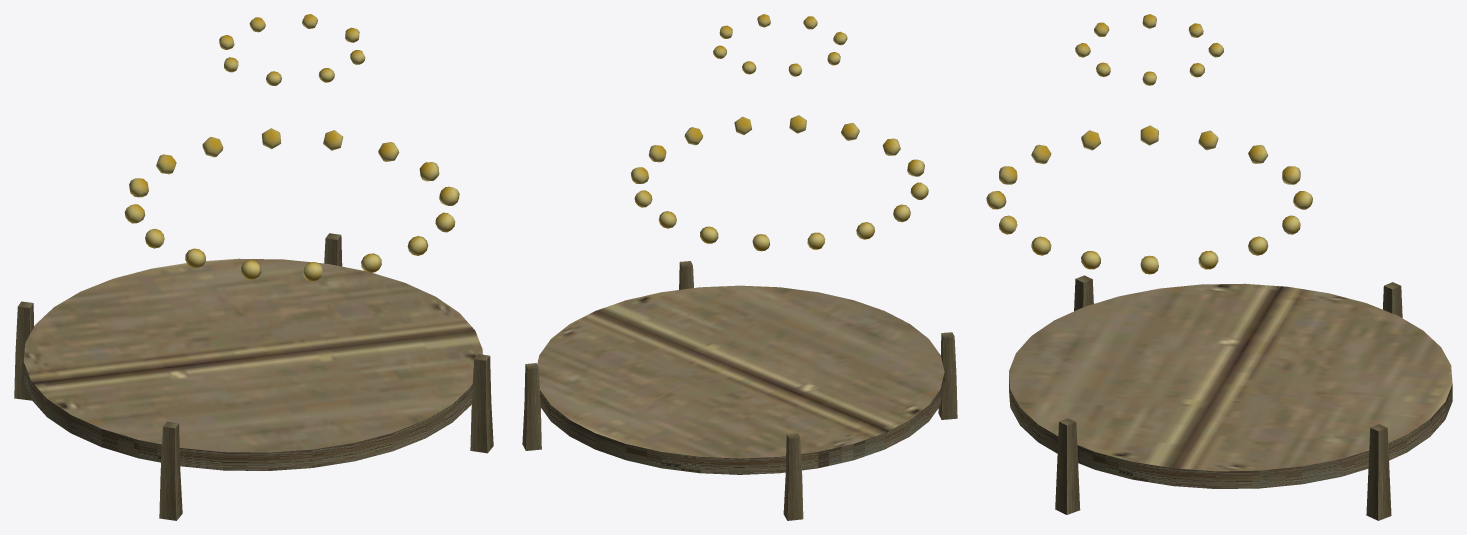
Rendered from buil_uvchannel.obj.
3 renders of one model, left to right at view 1: azimuth 30°, elevation 25°; view 2: azimuth 150°, elevation 25°; view 3: azimuth 270°, elevation 25°, orthographic. The views are drawn at different scales.
Parts seen in each view (by area): view 1: base_q_0, base_q_1, buill_maru_0, base_s_0; view 2: base_q_0, base_q_1, buill_maru_0, base_s_0; view 3: base_q_0, base_q_1, buill_maru_0, base_s_0.
Boxes of the visible parts, box(x1,y1,x2,y2) form: base_q_0: box(23, 258, 482, 452); base_q_1: box(23, 352, 482, 470); buill_maru_0: box(124, 14, 459, 281); base_s_0: box(14, 233, 493, 520); base_q_0: box(537, 285, 944, 458); base_q_1: box(540, 373, 944, 474); buill_maru_0: box(630, 14, 928, 251); base_s_0: box(522, 261, 957, 520); base_q_0: box(1009, 283, 1452, 471); base_q_1: box(1009, 376, 1452, 488); buill_maru_0: box(986, 14, 1312, 274); base_s_0: box(1055, 275, 1402, 520).
Bounding box in the file's own units: 256 × 252 × 269.
Materials: 5 (5 with a texture image).
